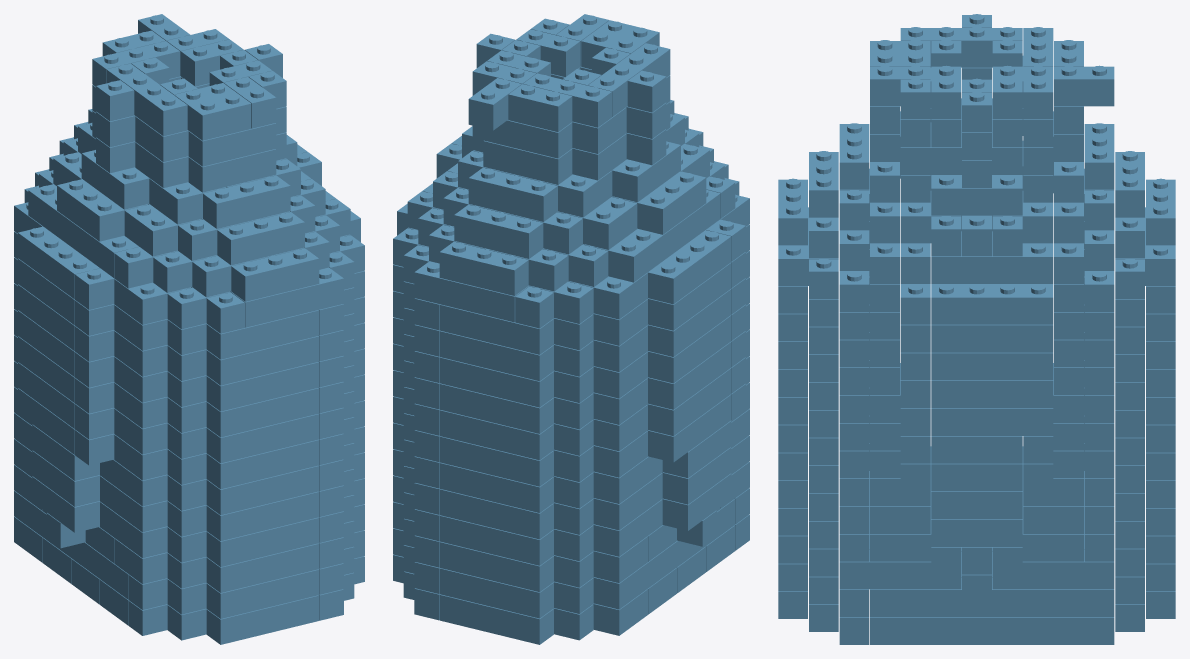
Rendered from 080_bottle_L5.glb.
3 renders of one model, left to right at view 1: azimuth 30°, elevation 25°; view 2: azimuth 150°, elevation 25°; view 3: azimuth 270°, elevation 25°, orthographic. The views are drawn at different scales.
Bounding box in the file's own units: 10.98 × 19.13 × 12.98.
